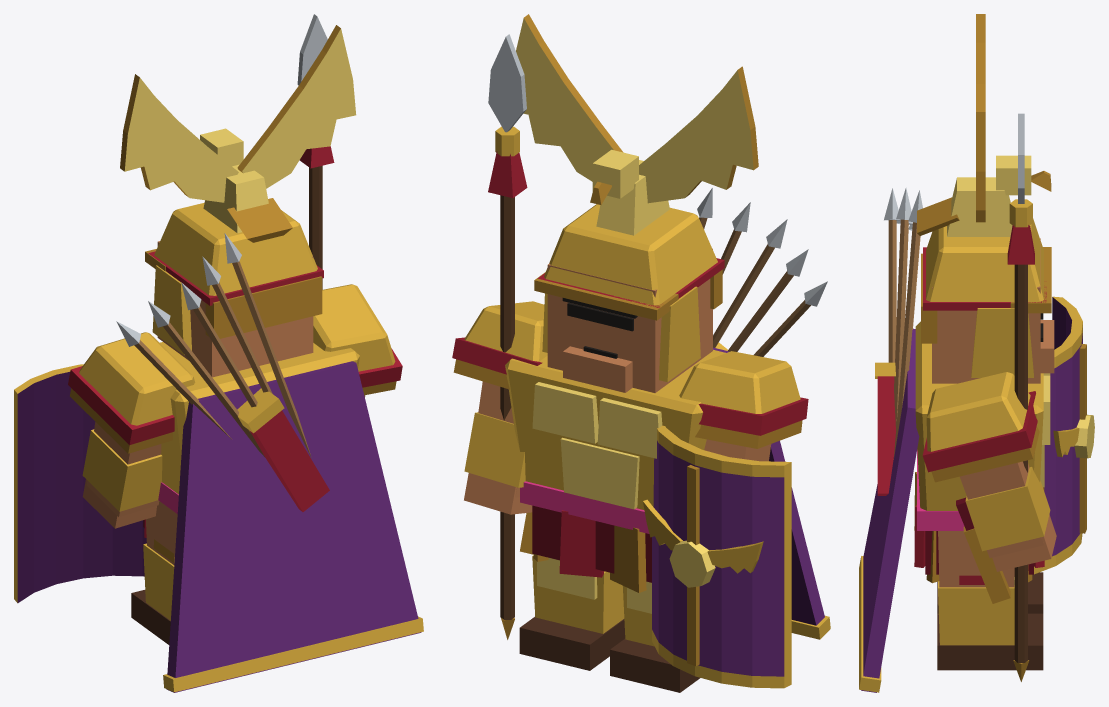
Rendered from EN_EmperorsChampion.fbx.
3 views of the same model, side by side, from view 1: azimuth 30°, elevation 25°; view 2: azimuth 150°, elevation 25°; view 3: azimuth 270°, elevation 25° (orthographic). The views are drawn at different scales.
Parts seen in each view (by area): view 1: Cloak, Shield, Helm, WingR, WingL, PauldronL, PauldronR, Body, Head, VambraceL, NeckGuard, Hem (+22 smaller); view 2: Shield, Helm, Body, WingL, WingR, Head, PauldronL, Abs, Spear, BootR, GreaveR, VambraceR (+36 smaller); view 3: Cloak, Shield, Helm, PauldronR, VambraceR, GreaveR, Body, Head, Spear, BootR, CheekR, Eagle (+30 smaller).
Boxes of the visible parts, box(x1,y1,x2,y2) form: Cloak: box(166, 361, 421, 692); Shield: box(14, 364, 146, 603); Helm: box(154, 202, 317, 295); WingR: box(237, 25, 356, 188); WingL: box(120, 74, 238, 202); PauldronL: box(79, 332, 195, 425); PauldronR: box(313, 284, 395, 371); Body: box(160, 342, 359, 494); Head: box(157, 241, 313, 377); VambraceL: box(82, 429, 162, 511); NeckGuard: box(205, 276, 322, 338); Hem: box(163, 616, 423, 692); Shield: box(652, 425, 791, 688); Helm: box(544, 204, 717, 305); Body: box(505, 349, 725, 509); WingL: box(639, 66, 758, 203); WingR: box(516, 14, 623, 181); Head: box(547, 248, 712, 392); PauldronL: box(679, 351, 800, 413); Abs: box(560, 437, 639, 509); Spear: box(500, 195, 514, 619); BootR: box(519, 616, 625, 670); GreaveR: box(532, 555, 624, 633); VambraceR: box(464, 412, 525, 487); Cloak: box(861, 328, 919, 692); Shield: box(1034, 296, 1082, 574); Helm: box(926, 218, 1043, 301); PauldronR: box(926, 372, 1030, 451); VambraceR: box(965, 467, 1050, 551); GreaveR: box(938, 581, 1014, 645); Body: box(915, 321, 1043, 510); Head: box(932, 238, 1040, 383); Spear: box(1014, 264, 1027, 662); BootR: box(937, 613, 1043, 670); CheekR: box(971, 308, 1033, 377); Eagle: box(947, 177, 1012, 236).
Bounding box in the file's own units: 2.8 × 1.74 × 4.64.
